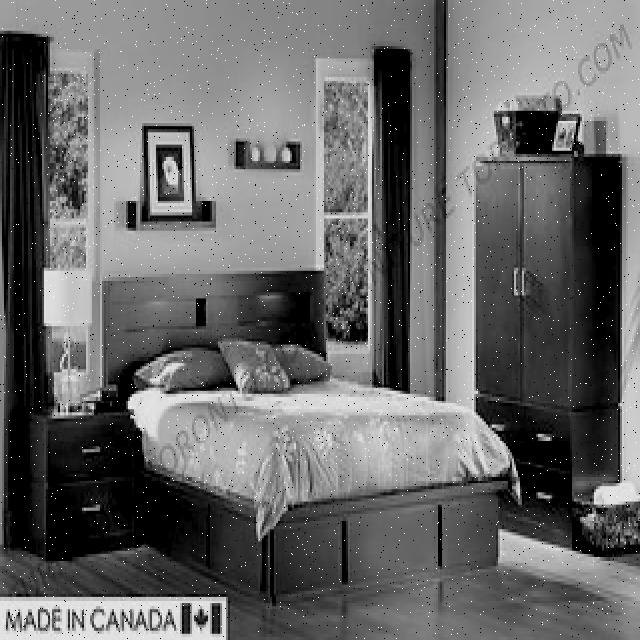bed: (101, 275, 502, 599)
